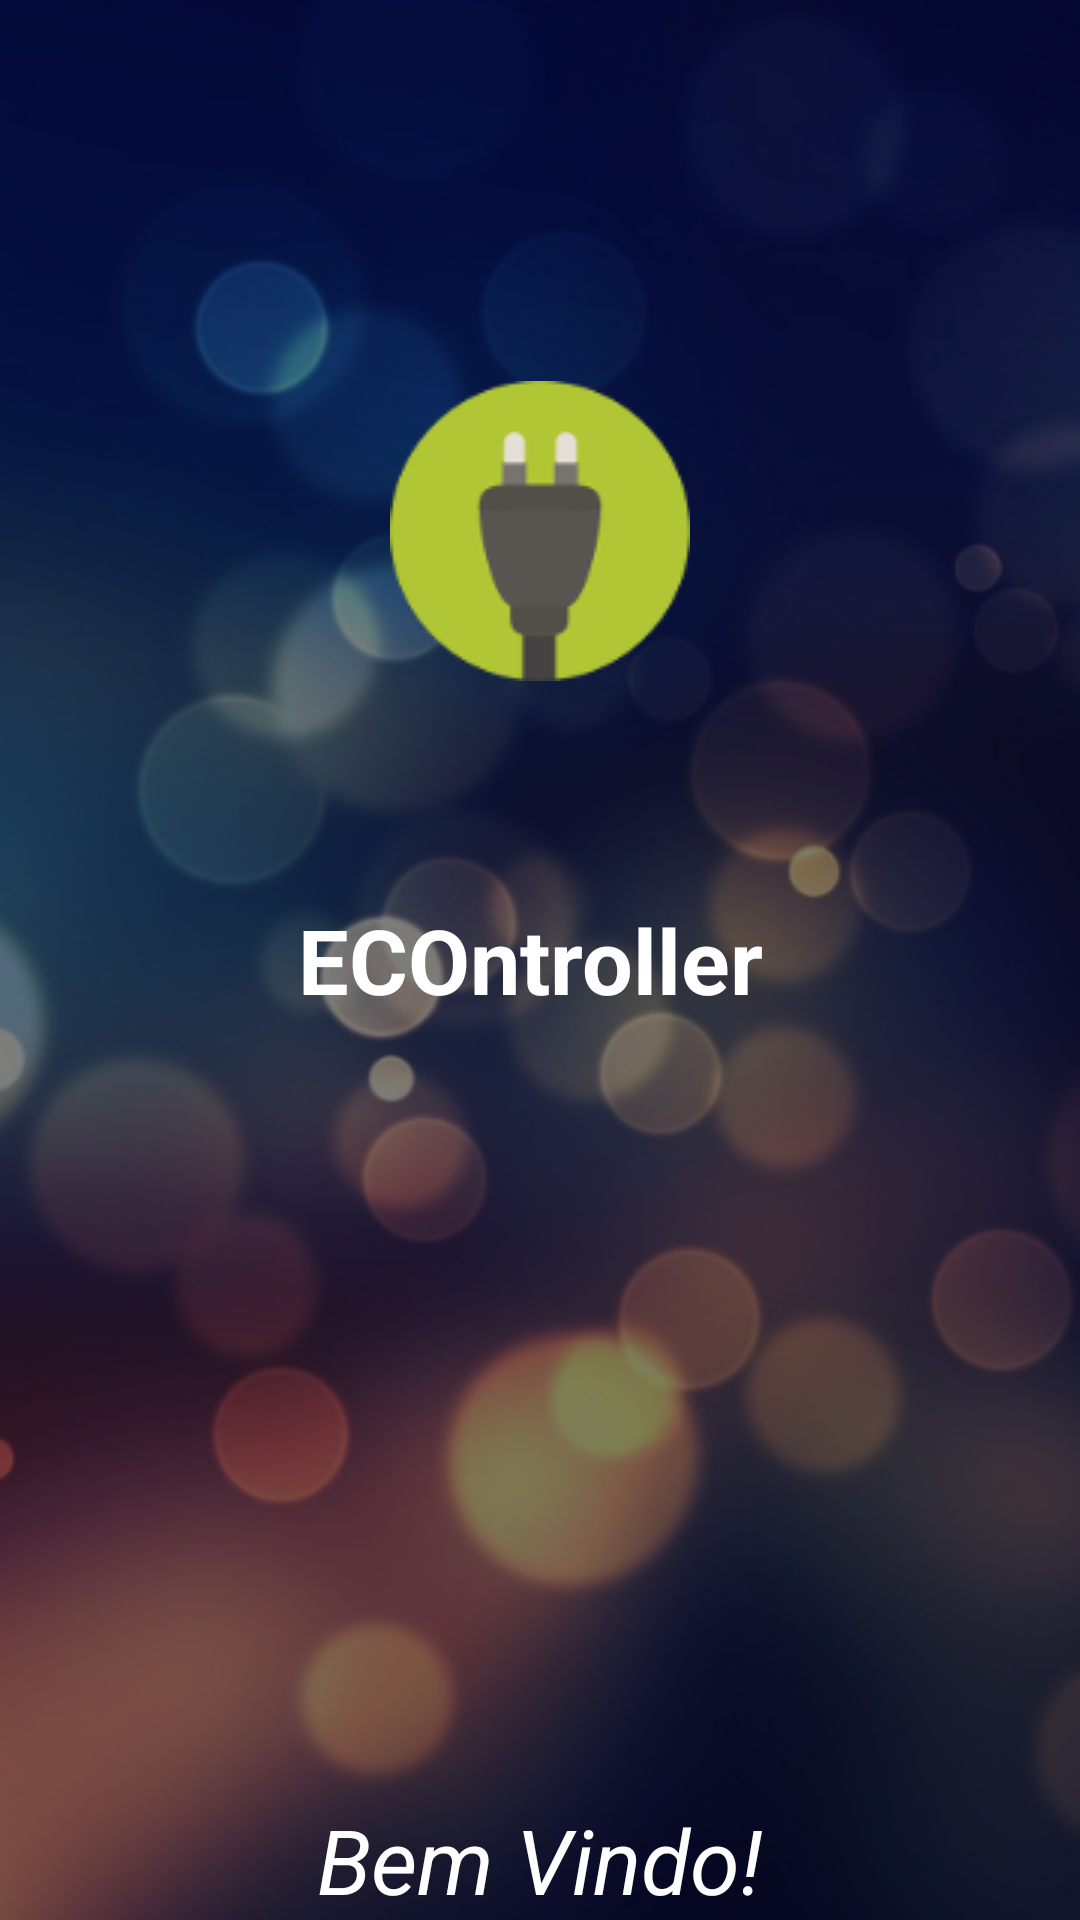

Named icons in this screenshot (1080 x 1920) and their bounding boxes, bbox=(x1, y1, x2, y2):
plugicon: bbox=(390, 381, 690, 681)
